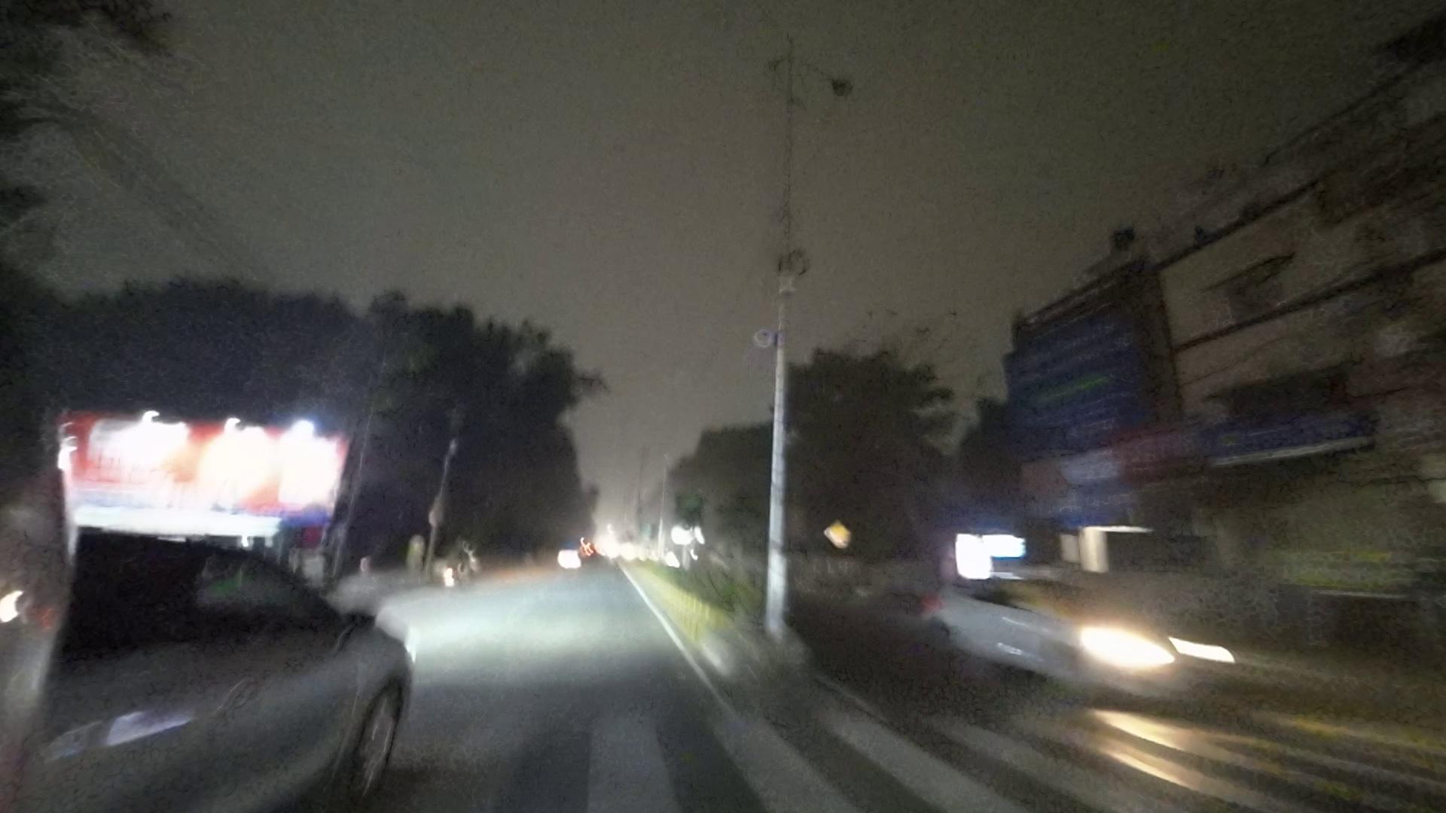streetlight: (800, 48, 855, 104)
